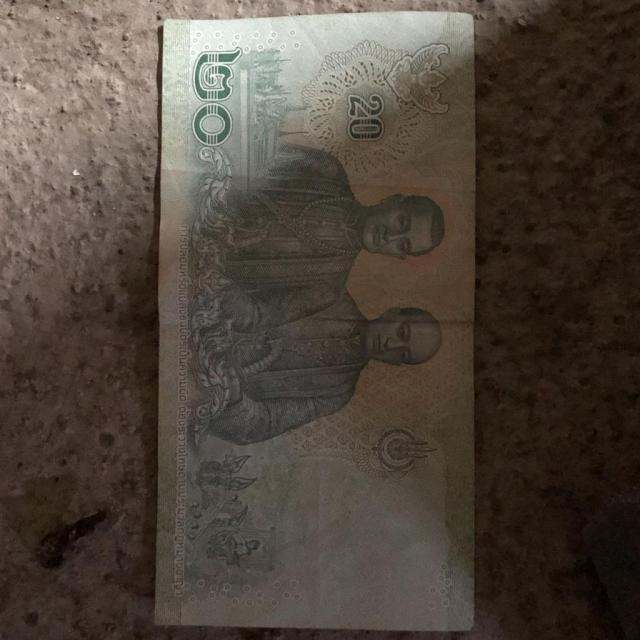THAI20: (156, 12, 475, 630)
